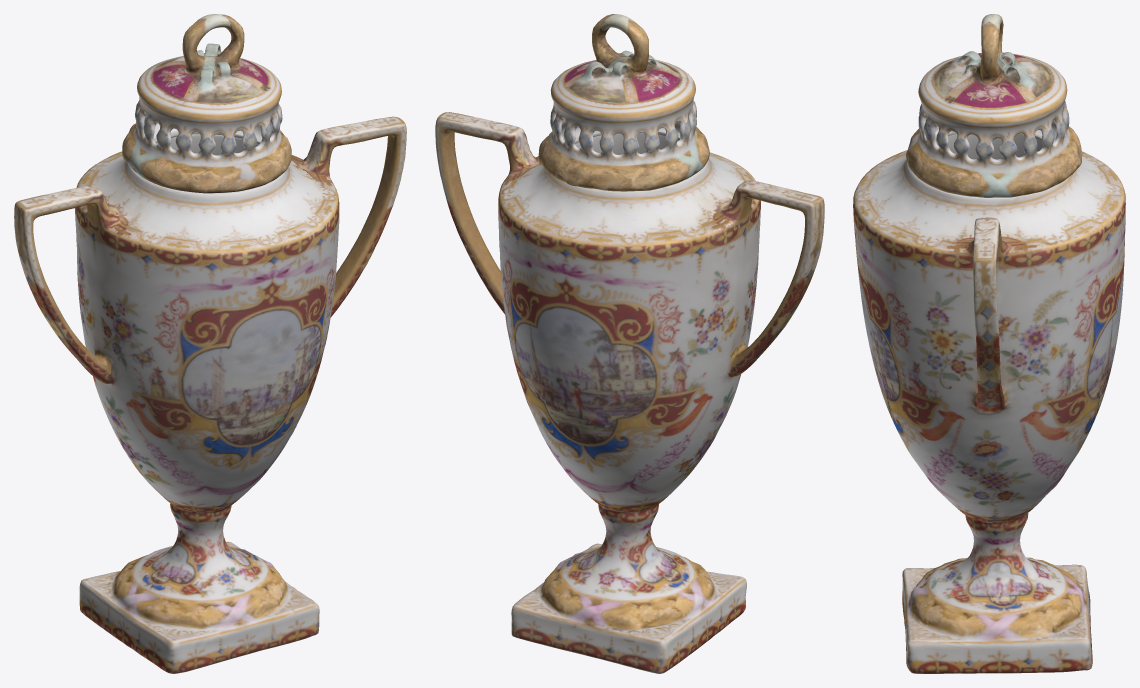
The model's file is vessel_for_potpourri.glb.
The picture shows the model from 3 angles, left to right: view 1: azimuth 30°, elevation 25°; view 2: azimuth 150°, elevation 25°; view 3: azimuth 270°, elevation 25°; orthographic projection. The views are drawn at different scales.
Visible parts, largest first — view 1: Object_2; view 2: Object_2; view 3: Object_2.
Part boxes in pixels (x1,y1,x2,y2): Object_2: [14, 14, 406, 673]; Object_2: [435, 14, 824, 673]; Object_2: [853, 14, 1125, 673].
Bounding box in the file's own units: 180 × 273 × 107.
Materials: 1 (1 with a texture image).
